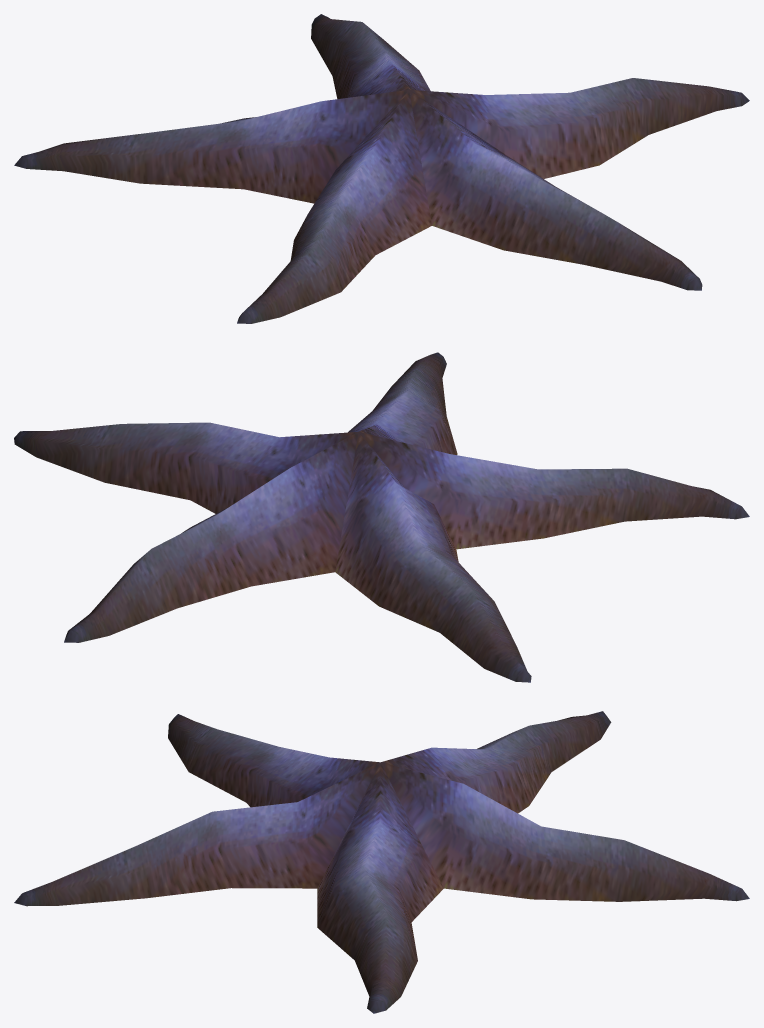
File: environment_common_seahaixing_001_b.FBX
3 views of the same model, one above another, from view 1: azimuth 30°, elevation 25°; view 2: azimuth 150°, elevation 25°; view 3: azimuth 270°, elevation 25° (orthographic). The views are drawn at different scales.
Visible parts, largest first — view 1: environment_common_seahaixing_001_b; view 2: environment_common_seahaixing_001_b; view 3: environment_common_seahaixing_001_b.
Boxes of the visible parts, x1,y1,x2,y2 form: environment_common_seahaixing_001_b: (14,14,749,323); environment_common_seahaixing_001_b: (14,352,749,682); environment_common_seahaixing_001_b: (14,711,749,1013).
Size of the model in its own units: 326 by 45.71 by 341.
